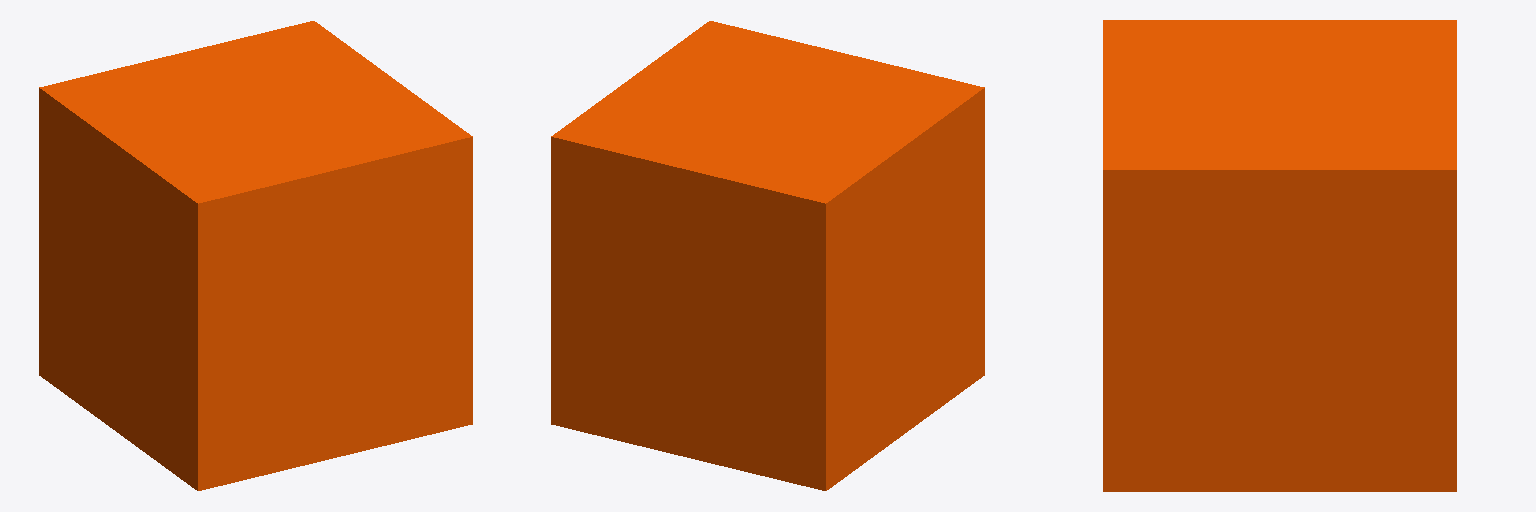
robot.urdf — quadcopter:
<?xml version="1.0" ?>
<robot name="quadcopter">
  <!-- <link name="world">
    <visual>
      <origin xyz="0 0 0" rpy="0 0 0"/>
      <geometry>
        <sphere radius="0.001"/>
      </geometry>
    </visual>
  </link> -->

  <link name="base_link">
    <inertial>
      <mass value="1.54"/>
      <origin rpy="0 0 0" xyz="0 0 0"/>
      <inertia ixx="0.1152" ixy="0" ixz="0" iyy="0.1152" iyz="0" izz="0.218"/>
    </inertial>
    <collision name="quadcotper__collision">
      <origin rpy="0 0 0" xyz="0   0   -0.02"/>
      <geometry>
        <mesh filename="package://uav_simulator/urdf/quadcopter/meshes/CERLAB_quadcopter.stl" scale="1.5 1.5 1.5"/>
      </geometry>
    </collision>
    <visual name="quadcotper__visual">
       <origin rpy="0 0 0" xyz="0   0   -0.02"/>
        <geometry>
          <mesh filename="package://uav_simulator/urdf/quadcopter/meshes/CERLAB_quadcopter.dae" scale="1.5 1.5 1.5"/>
        </geometry>
    </visual>
  </link>

  <gazebo reference="quadcopter">
  	<material>quadcopter/Diffusion</material>
  </gazebo>


  <gazebo>
    <plugin name='quadcopter_gazebo_plugin' filename='libquadcopterPlugin.so'>
        <bodyName>base_link</bodyName>
        <rollpitchProportionalGain>10.0</rollpitchProportionalGain>
        <rollpitchDifferentialGain>5.0</rollpitchDifferentialGain>
        <rollpitchLimit>1.0</rollpitchLimit>
        <yawProportionalGain>1.5</yawProportionalGain>
        <yawDifferentialGain>1.0</yawDifferentialGain>
        <yawLimit>1.5</yawLimit>
        <yawAngleProportionalGain>3.0</yawAngleProportionalGain>
        <yawAngleLimit>3.15</yawAngleLimit>
        <velocityXYProportionalGain>5.0</velocityXYProportionalGain>
        <velocityXYDifferentialGain>2.3</velocityXYDifferentialGain>
        <velocityXYLimit>2</velocityXYLimit>
        <velocityZProportionalGain>5.0</velocityZProportionalGain>
        <velocityZDifferentialGain>0.5</velocityZDifferentialGain>
        <velocityZLimit>-1</velocityZLimit>
        <positionXYProportionalGain>1.2</positionXYProportionalGain>
        <positionXYDifferentialGain>0.1</positionXYDifferentialGain>
        <positionXYIntegralGain>0.0</positionXYIntegralGain>
        <positionXYLimit>-1</positionXYLimit>
        <positionZProportionalGain>1.0</positionZProportionalGain>
        <positionZDifferentialGain>0.2</positionZDifferentialGain>
        <positionZLimit>-1</positionZLimit>
        <accelerationXYProportionalGain>15.0</accelerationXYProportionalGain>
        <accelerationXYDifferentialGain>0.0</accelerationXYDifferentialGain>
        <accelerationXYIntegralGain>0.0</accelerationXYIntegralGain>
        <accelerationXYLimit>-1</accelerationXYLimit>
        <accelerationZProportionalGain>0.5</accelerationZProportionalGain>
        <accelerationZDifferentialGain>0.0</accelerationZDifferentialGain>
        <accelerationZLimit>-1</accelerationZLimit>
        <maxForce>60</maxForce>
        <motionSmallNoise>0.05</motionSmallNoise>
        <motionDriftNoise>0.03</motionDriftNoise>
        <motionDriftNoiseTime>5.0</motionDriftNoiseTime>
    </plugin>
  </gazebo>

  <!-- <joint name="world2base_joint" type="fixed">
    <parent link="world"/>
    <child link="base_link"/>
  </joint> -->

  <link name="camera_link">
    <!-- <inertial>
      <mass value="1.54"/>
      <origin rpy="0 0 0" xyz="0 0 0"/>
      <inertia ixx="0.1152" ixy="0" ixz="0" iyy="0.1152" iyz="0" izz="0.218"/>
    </inertial>
    <collision name="quadcotper__collision">
      <origin rpy="0 0 0" xyz="0   0   -0.02"/>
      <geometry>
        <mesh filename="package://uav_simulator/urdf/quadcopter/meshes/CERLAB_quadcopter.stl" scale="1.5 1.5 1.5"/>
      </geometry>
    </collision>
    <visual name="quadcotper__visual">
       <origin rpy="0 0 0" xyz="0   0   -0.02"/>
        <geometry>
          <mesh filename="package://uav_simulator/urdf/quadcopter/meshes/CERLAB_quadcopter.dae" scale="1.5 1.5 1.5"/>
        </geometry>
    </visual> -->
  </link>

  <gazebo reference="base_link">
      <sensor name="camera" type="depth">
          <update_rate>30</update_rate>
          <camera>
            <horizontal_fov>1.047198</horizontal_fov>
            <image>
              <width>640</width>
              <height>480</height>
              <format>R8G8B8</format>
            </image>
            <clip>
              <near>0.05</near>
              <far>100.0</far>
            </clip>
          </camera>
          <pose> 0.09 0.0 0.095 0 0 0 </pose>
          <plugin name="camera_plugin" filename="libgazebo_ros_openni_kinect.so">
            <baseline>0.2</baseline>
            <alwaysOn>true</alwaysOn>
            <updateRate>0.0</updateRate>
            <cameraName>camera</cameraName>
            <imageTopicName>/camera/color/image_raw</imageTopicName>
            <cameraInfoTopicName>/camera/color/camera_info</cameraInfoTopicName>
            <depthImageTopicName>/camera/depth/image_raw</depthImageTopicName>
            <depthImageInfoTopicName>/camera/depth/camera_info</depthImageInfoTopicName>
            <pointCloudTopicName>/camera/depth/points</pointCloudTopicName>
            <frameName>camera_link</frameName>
            <pointCloudCutoff>0.05</pointCloudCutoff>
            <pointCloudCutoffMax>3.5</pointCloudCutoffMax>
            <distortionK1>0</distortionK1>
            <distortionK2>0</distortionK2>
            <distortionK3>0</distortionK3>
            <distortionT1>0</distortionT1>
            <distortionT2>0</distortionT2>
            <CxPrime>0</CxPrime>
            <Cx>0</Cx>
            <Cy>0</Cy>
            <focalLength>0</focalLength>
            <hackBaseline>0</hackBaseline>
          </plugin>
    </sensor>
  </gazebo>

  <joint name="base2camera_joint" type="fixed">
    <parent link="base_link"/>
    <child link="camera_link"/>
  </joint>

  <gazebo reference="base_link">
      <sensor name="left_tof" type="depth">
          <update_rate>30</update_rate>
          <camera>
            <horizontal_fov>1.047198</horizontal_fov>
            <image>
              <width>640</width>
              <height>480</height>
              <format>R8G8B8</format>
            </image>
            <clip>
              <near>0.03</near>
              <far>100.0</far>
            </clip>
          </camera>
          <pose> 0.0 0.1 0 0 0 1.57 </pose>
          <plugin name="camera_plugin" filename="libgazebo_ros_openni_kinect.so">
            <baseline>0.2</baseline>
            <alwaysOn>true</alwaysOn>
            <updateRate>0.0</updateRate>
            <cameraName>camera_left</cameraName>
            <imageTopicName>/camera_left/color/image_raw</imageTopicName>
            <cameraInfoTopicName>/camera_left/color/camera_info</cameraInfoTopicName>
            <depthImageTopicName>/camera_left/depth/image_raw</depthImageTopicName>
            <depthImageInfoTopicName>/camera_left/depth/camera_info</depthImageInfoTopicName>
            <pointCloudTopicName>/camera_left/depth/points</pointCloudTopicName>
            <frameName>camera_link</frameName>
            <pointCloudCutoff>0.05</pointCloudCutoff>
            <pointCloudCutoffMax>100.0</pointCloudCutoffMax>
            <distortionK1>0</distortionK1>
            <distortionK2>0</distortionK2>
            <distortionK3>0</distortionK3>
            <distortionT1>0</distortionT1>
            <distortionT2>0</distortionT2>
            <CxPrime>0</CxPrime>
            <Cx>0</Cx>
            <Cy>0</Cy>
            <focalLength>0</focalLength>
            <hackBaseline>0</hackBaseline>
          </plugin>
      </sensor>
  </gazebo>

  <gazebo reference="base_link">
      <sensor name="right_tof" type="depth">
          <update_rate>30</update_rate>
          <camera>
            <horizontal_fov>1.047198</horizontal_fov>
            <image>
              <width>640</width>
              <height>480</height>
              <format>R8G8B8</format>
            </image>
            <clip>
              <near>0.03</near>
              <far>100.0</far>
            </clip>
          </camera>
          <pose> 0.0 -0.1 0 0 0 -1.57 </pose>
          <plugin name="camera_plugin" filename="libgazebo_ros_openni_kinect.so">
            <baseline>0.2</baseline>
            <alwaysOn>true</alwaysOn>
            <updateRate>0.0</updateRate>
            <cameraName>camera_right</cameraName>
            <imageTopicName>/camera_right/color/image_raw</imageTopicName>
            <cameraInfoTopicName>/camera_right/color/camera_info</cameraInfoTopicName>
            <depthImageTopicName>/camera_right/depth/image_raw</depthImageTopicName>
            <depthImageInfoTopicName>/camera_right/depth/camera_info</depthImageInfoTopicName>
            <pointCloudTopicName>/camera_right/depth/points</pointCloudTopicName>
            <frameName>camera_link</frameName>
            <pointCloudCutoff>0.05</pointCloudCutoff>
            <pointCloudCutoffMax>100.0</pointCloudCutoffMax>
            <distortionK1>0</distortionK1>
            <distortionK2>0</distortionK2>
            <distortionK3>0</distortionK3>
            <distortionT1>0</distortionT1>
            <distortionT2>0</distortionT2>
            <CxPrime>0</CxPrime>
            <Cx>0</Cx>
            <Cy>0</Cy>
            <focalLength>0</focalLength>
            <hackBaseline>0</hackBaseline>
          </plugin>
      </sensor>
  </gazebo>

  <gazebo reference="base_link">
      <sensor name="bottom_tof" type="depth">
          <update_rate>30</update_rate>
          <camera>
            <horizontal_fov>1.047198</horizontal_fov>
            <image>
              <width>640</width>
              <height>480</height>
              <format>R8G8B8</format>
            </image>
            <clip>
              <near>0.03</near>
              <far>100.0</far>
            </clip>
          </camera>
          <pose> 0.0 0.0 -0.1 0 1.57 0 </pose>
          <plugin name="camera_plugin" filename="libgazebo_ros_openni_kinect.so">
            <baseline>0.2</baseline>
            <alwaysOn>true</alwaysOn>
            <updateRate>0.0</updateRate>
            <cameraName>camera_bottom</cameraName>
            <imageTopicName>/camera_bottom/color/image_raw</imageTopicName>
            <cameraInfoTopicName>/camera_bottom/color/camera_info</cameraInfoTopicName>
            <depthImageTopicName>/camera_bottom/depth/image_raw</depthImageTopicName>
            <depthImageInfoTopicName>/camera_bottom/depth/camera_info</depthImageInfoTopicName>
            <pointCloudTopicName>/camera_bottom/depth/points</pointCloudTopicName>
            <frameName>camera_link</frameName>
            <pointCloudCutoff>0.05</pointCloudCutoff>
            <pointCloudCutoffMax>100.0</pointCloudCutoffMax>
            <distortionK1>0</distortionK1>
            <distortionK2>0</distortionK2>
            <distortionK3>0</distortionK3>
            <distortionT1>0</distortionT1>
            <distortionT2>0</distortionT2>
            <CxPrime>0</CxPrime>
            <Cx>0</Cx>
            <Cy>0</Cy>
            <focalLength>0</focalLength>
            <hackBaseline>0</hackBaseline>
          </plugin>
      </sensor>
  </gazebo>

  <link name="gps_link">
    <collision>
      <origin xyz="0 0 0.1" rpy="0 0 0"/>
      <geometry>
        <box size="0.02 0.02 0.02"/>
      </geometry>
    </collision>

    <visual>
      <origin xyz="0 0 0.1" rpy="0 0 0"/>
      <geometry>
        <box size="0.02 0.02 0.02"/>
      </geometry>
      <material name="orange">
        <color rgba="1. 0.424 0.04 0.0"/>
      </material>
    </visual>

    <inertial>
      <origin xyz="0 0 1" rpy="0 0 0"/>
      <mass value="1"/>
      <inertia
        ixx="1.0" ixy="0.0" ixz="0.0"
        iyy="1.0" iyz="0.0"
        izz="1.0"/>
    </inertial>
  </link>

  <gazebo reference="gps_link">
    <material>Gazebo/Orange</material>
  </gazebo>

  <joint name="base2gps_joint" type="fixed">
    <parent link="base_link"/>
    <child link="gps_link"/>
  </joint>

  <gazebo>
    <plugin name="gazebo_ros_gps" filename="libhector_gazebo_ros_gps.so">
      <updateRate>4.0</updateRate>
      <bodyName>gps_link</bodyName>
      <frameId>gps_link</frameId>
      <topicName>/gps/fix</topicName>
      <velocityTopicName>/gps/fix_velocity</velocityTopicName>
      <referenceLatitude>-30.06022459407145675</referenceLatitude>
      <referenceLongitude>-51.173913575780311191</referenceLongitude>
      <referenceHeading>90</referenceHeading>
      <referenceAltitude>10</referenceAltitude>
      <offset>0 0 0</offset>
      <drift>0.001 0.001 0.001</drift>
      <gaussianNoise>0.05 0.05 0.05</gaussianNoise>
      <velocityDrift>0.001 0.001 0.001</velocityDrift>
      <velocityGaussianNoise>0.5 0.5 0.5</velocityGaussianNoise>
    </plugin>
  </gazebo>
</robot>

--- Render facts (derived) ---
The picture shows the robot from 3 angles, left to right: view 1: azimuth 30°, elevation 25°; view 2: azimuth 150°, elevation 25°; view 3: azimuth 270°, elevation 25°; orthographic projection.
Model quadcopter with 3 links and 2 joints (2 fixed), rooted at base_link, posed all joints at 0.
Visible links, largest first — view 1: gps_link; view 2: gps_link; view 3: gps_link.
Link boxes in pixels (x1,y1,x2,y2): gps_link: (39, 21, 472, 490); gps_link: (551, 21, 984, 490); gps_link: (1103, 20, 1456, 491).
Size in the robot's own frame: 0.02 by 0.02 by 0.02 metres.
0 mesh visuals loaded from 1 distinct referenced files (none loaded); not drawn: 1 (reference not matched to a file when rendering).
